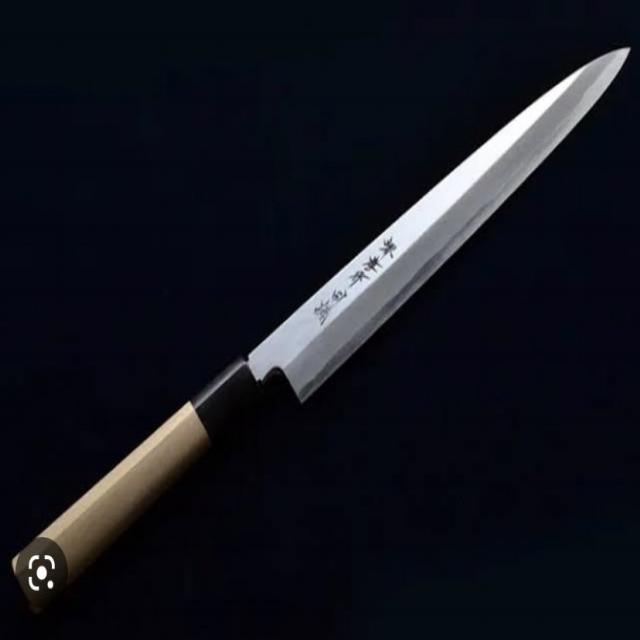Knife: (1, 28, 640, 631)
